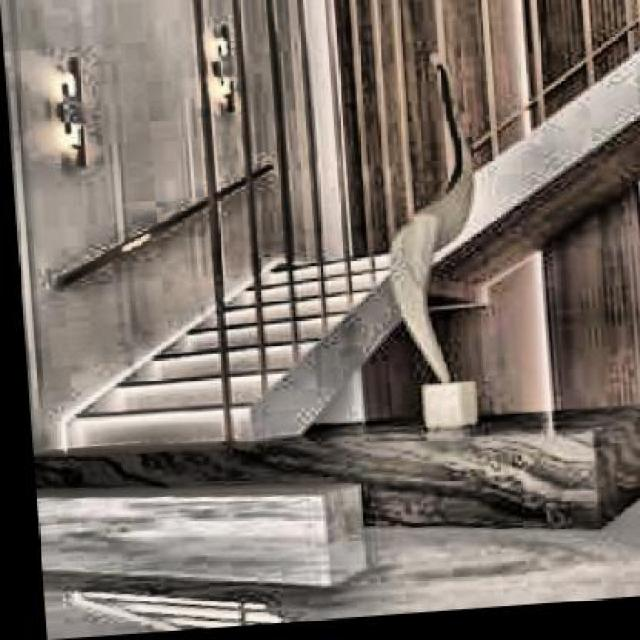stair: (51, 233, 394, 444)
